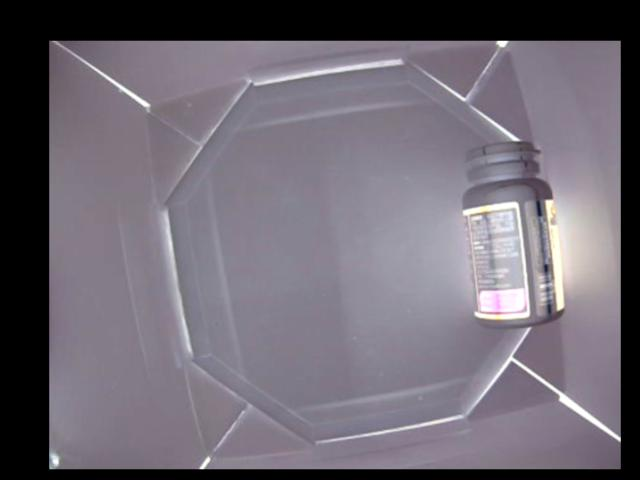Bottle: (464, 141, 568, 322)
